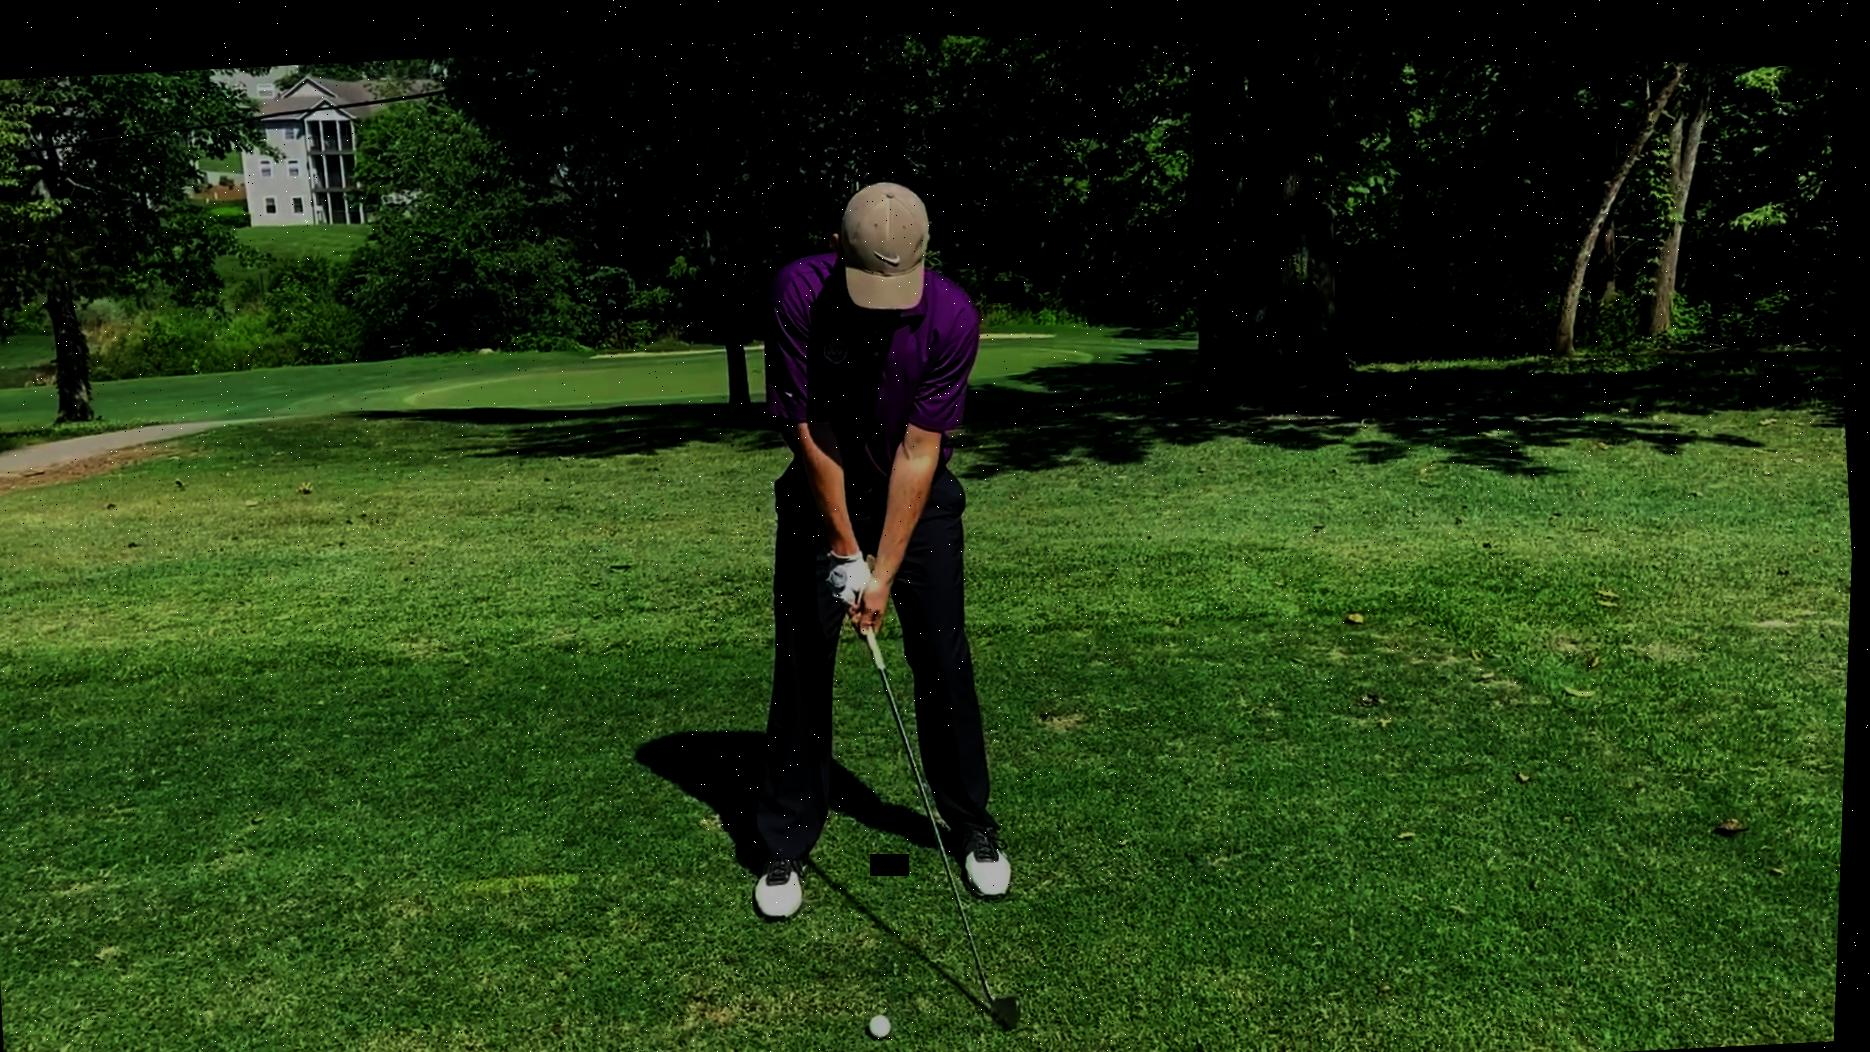ClubHead: (985, 963, 1033, 1029)
GolfBall: (873, 1006, 902, 1035)
